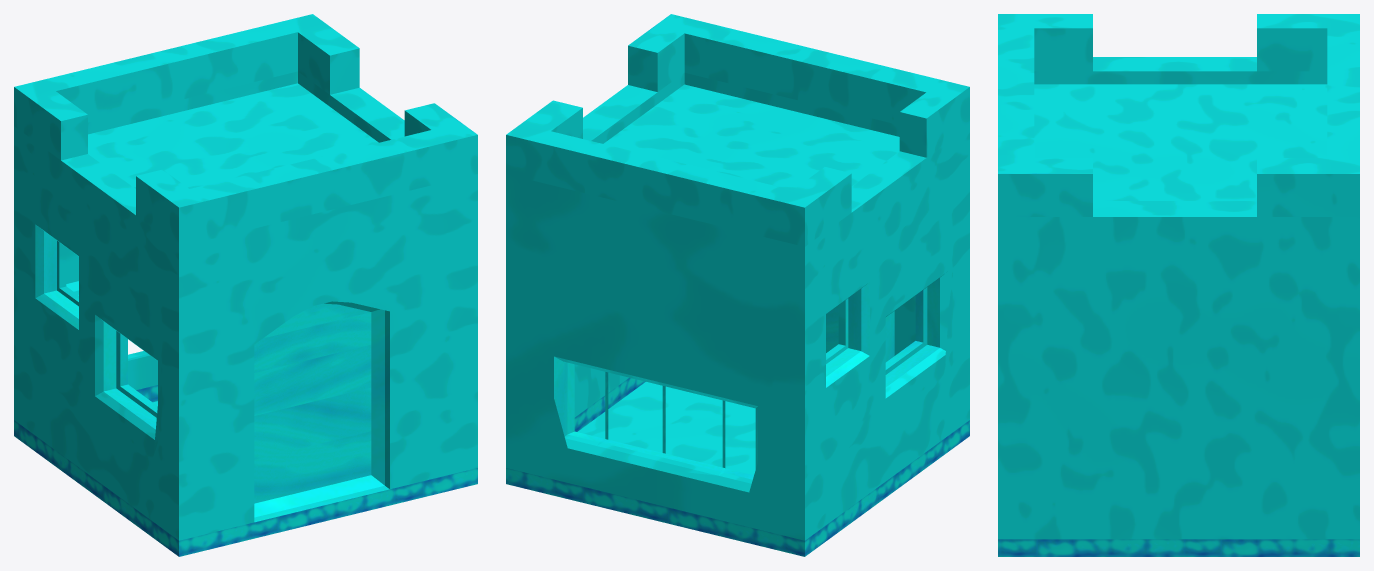
Rendered from SM_House_Part_03.fbx.
3 renders of one model, left to right at view 1: azimuth 30°, elevation 25°; view 2: azimuth 150°, elevation 25°; view 3: azimuth 270°, elevation 25°, orthographic. The views are drawn at different scales.
Parts seen in each view (by area): view 1: SM_House_Part_03; view 2: SM_House_Part_03; view 3: SM_House_Part_03.
Boxes of the visible parts, x1=… form: SM_House_Part_03: x1=14, y1=14, x2=477, y2=556; SM_House_Part_03: x1=506, y1=14, x2=969, y2=556; SM_House_Part_03: x1=998, y1=14, x2=1359, y2=556.
Bounding box in the file's own units: 8.95 × 10 × 8.56.
1 material, 1 textured.
